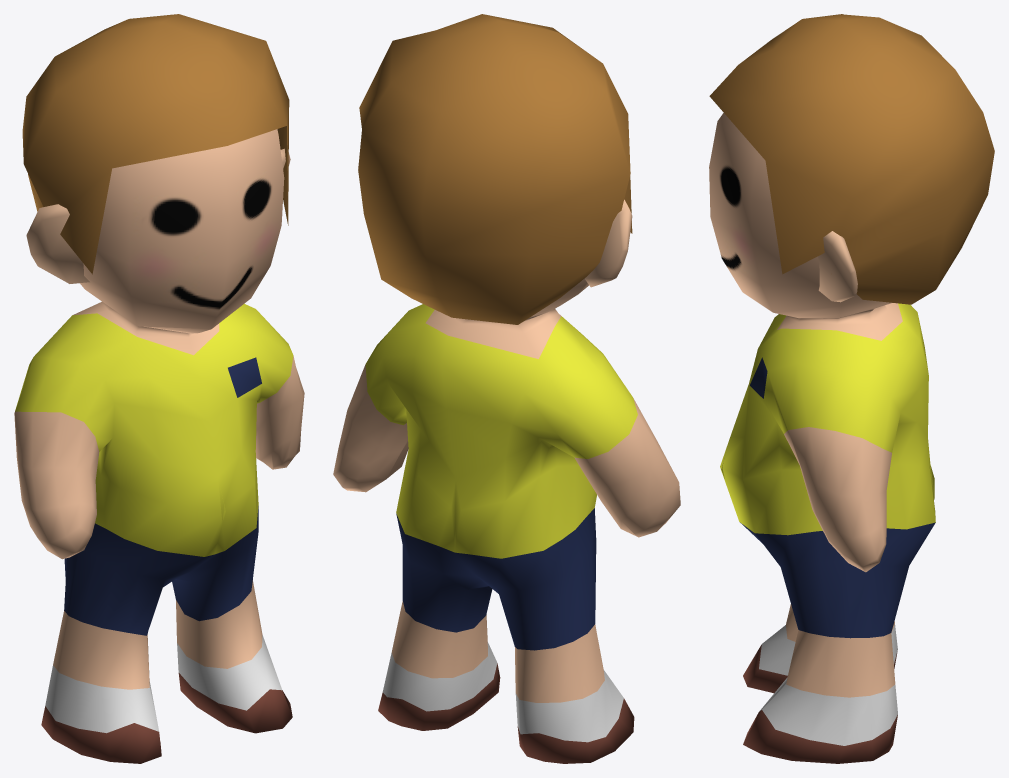
File: NiñoRepelente.fbx
3 renders of one model, left to right at view 1: azimuth 30°, elevation 25°; view 2: azimuth 150°, elevation 25°; view 3: azimuth 270°, elevation 25°, orthographic. The views are drawn at different scales.
Parts seen in each view (by area): view 1: Cube.025; view 2: Cube.025; view 3: Cube.025.
Boxes of the visible parts, <box> form: Cube.025: <box>14,14,304,763</box>; Cube.025: <box>333,14,680,763</box>; Cube.025: <box>709,14,994,763</box>.
Bounding box in the file's own units: 66.64 × 147 × 55.16.
